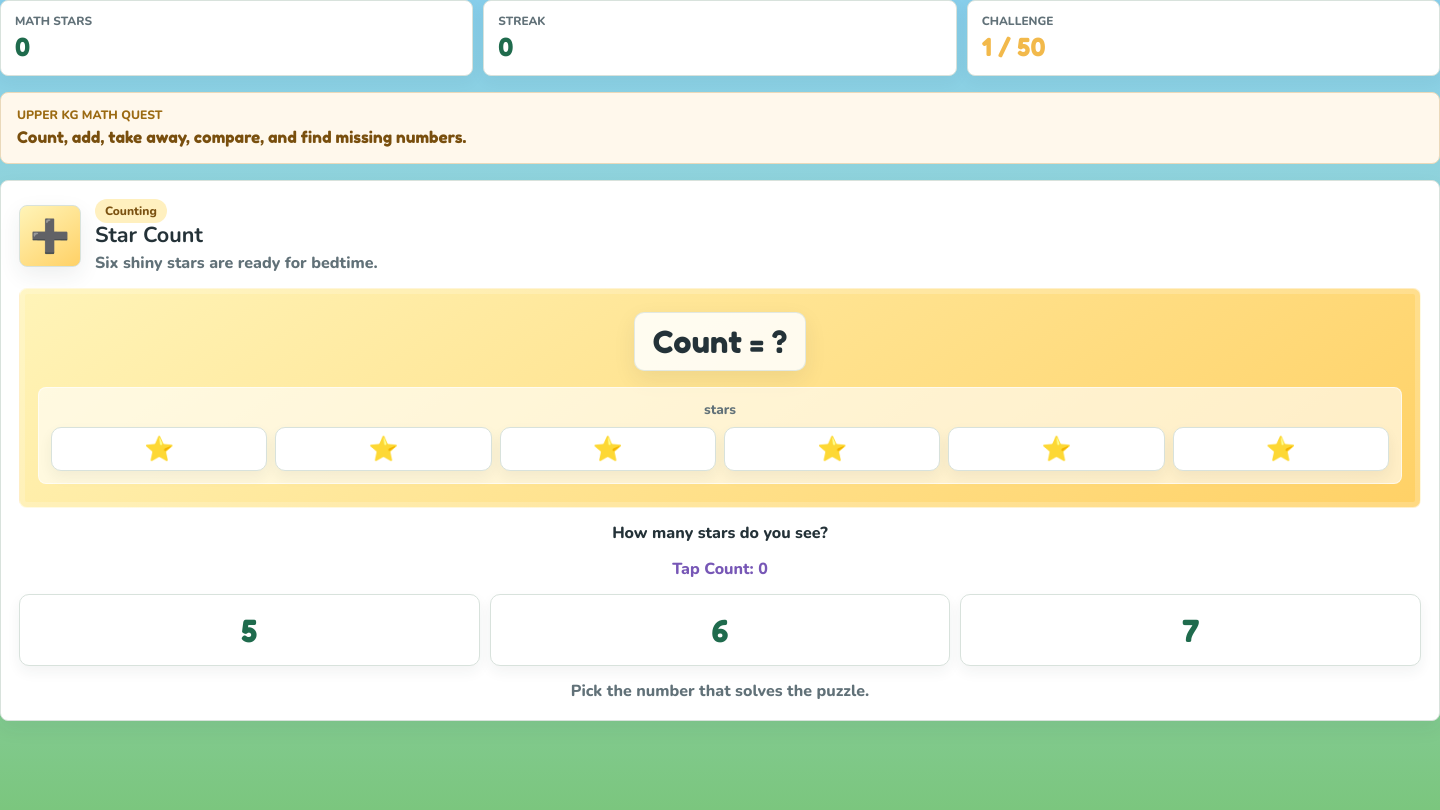
MathQuest › moves to the next problem after an answer and resets the tap counter
Click the button named "stars 1". click: (159, 449)
box: [51, 427, 267, 471]
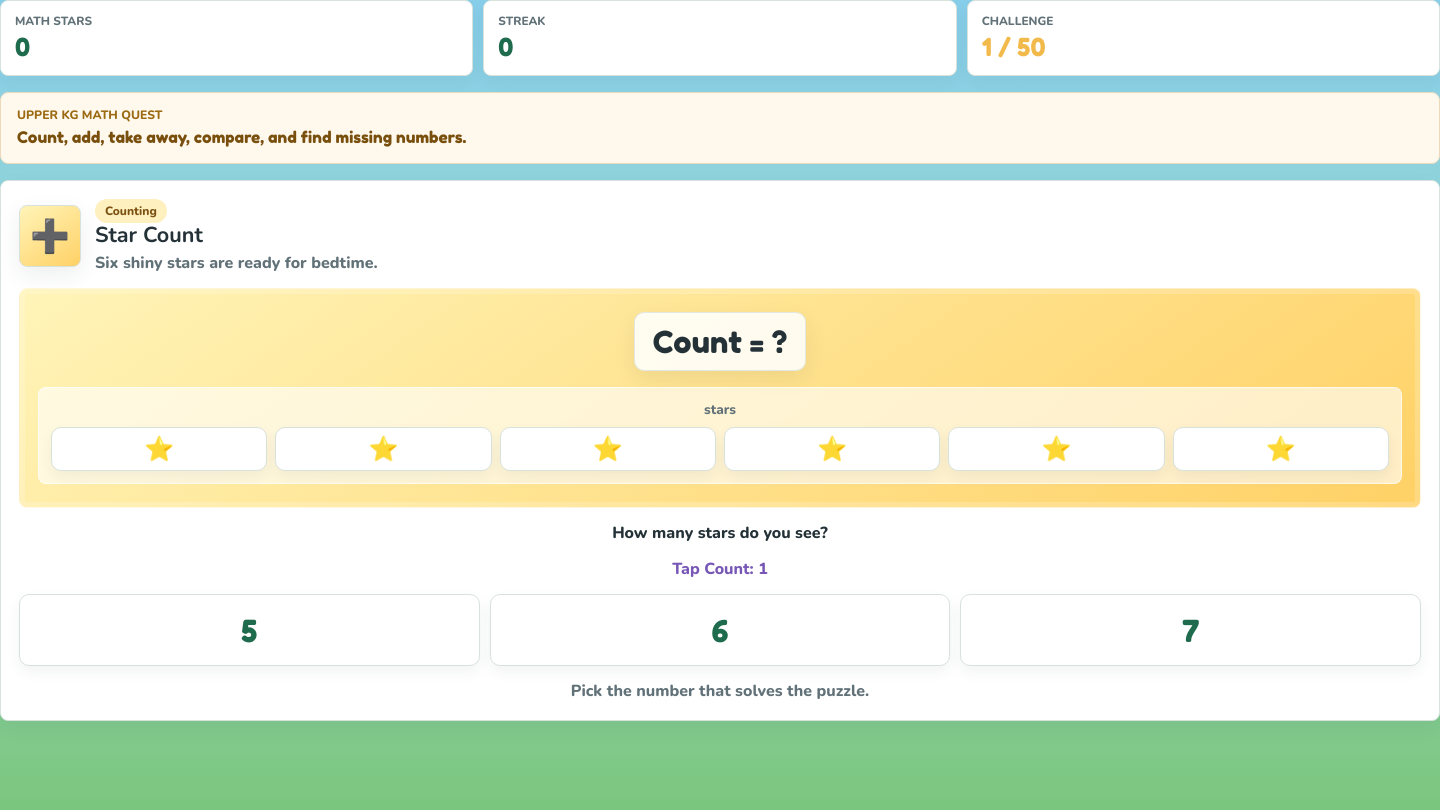
Click the button "6". click: (720, 630)
box: [490, 594, 950, 666]
Wait 900 ms
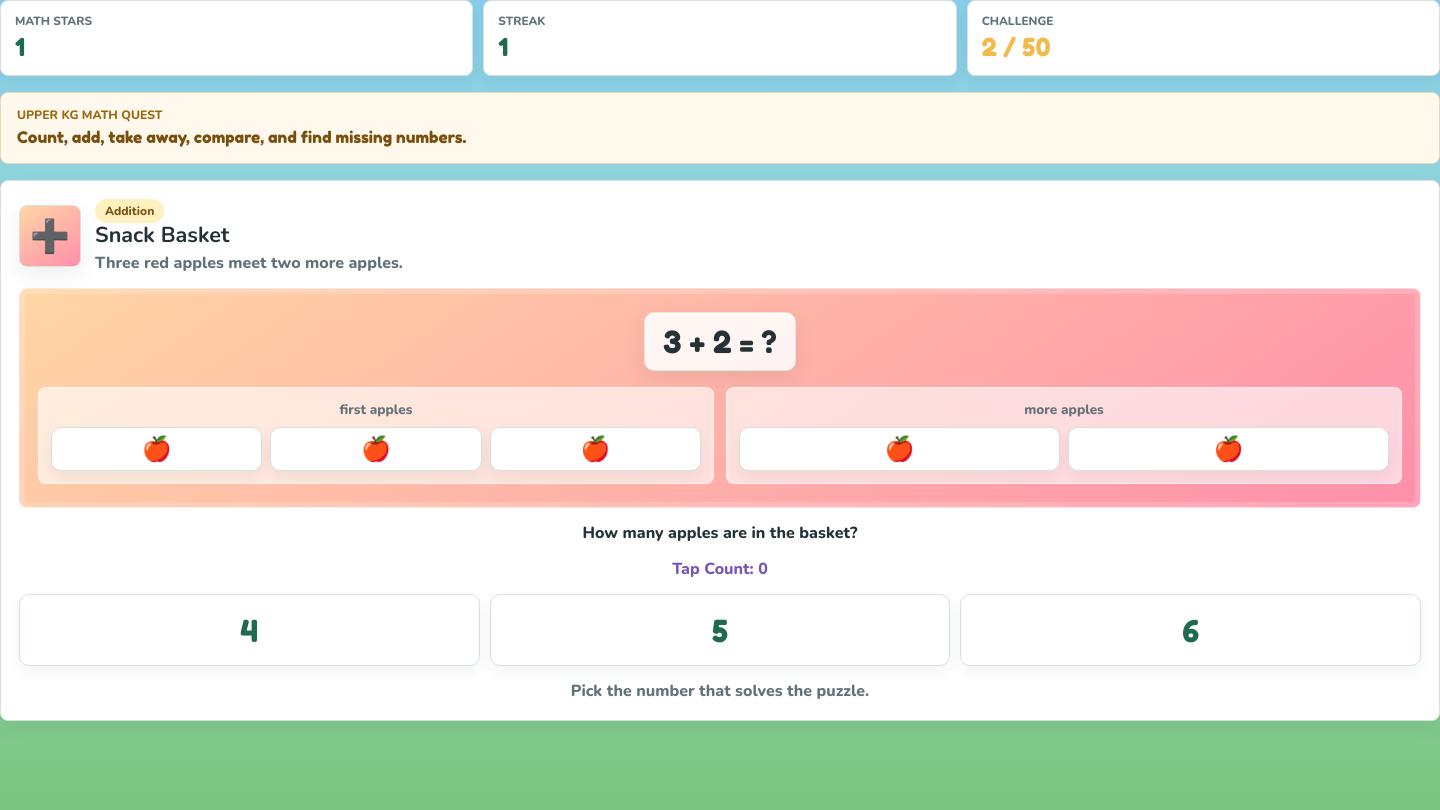
Expected: the heading "Snack Basket" is shown, [95, 220, 229, 250]
Expected: the text "Tap Count: 0" is shown, [672, 558, 768, 580]
